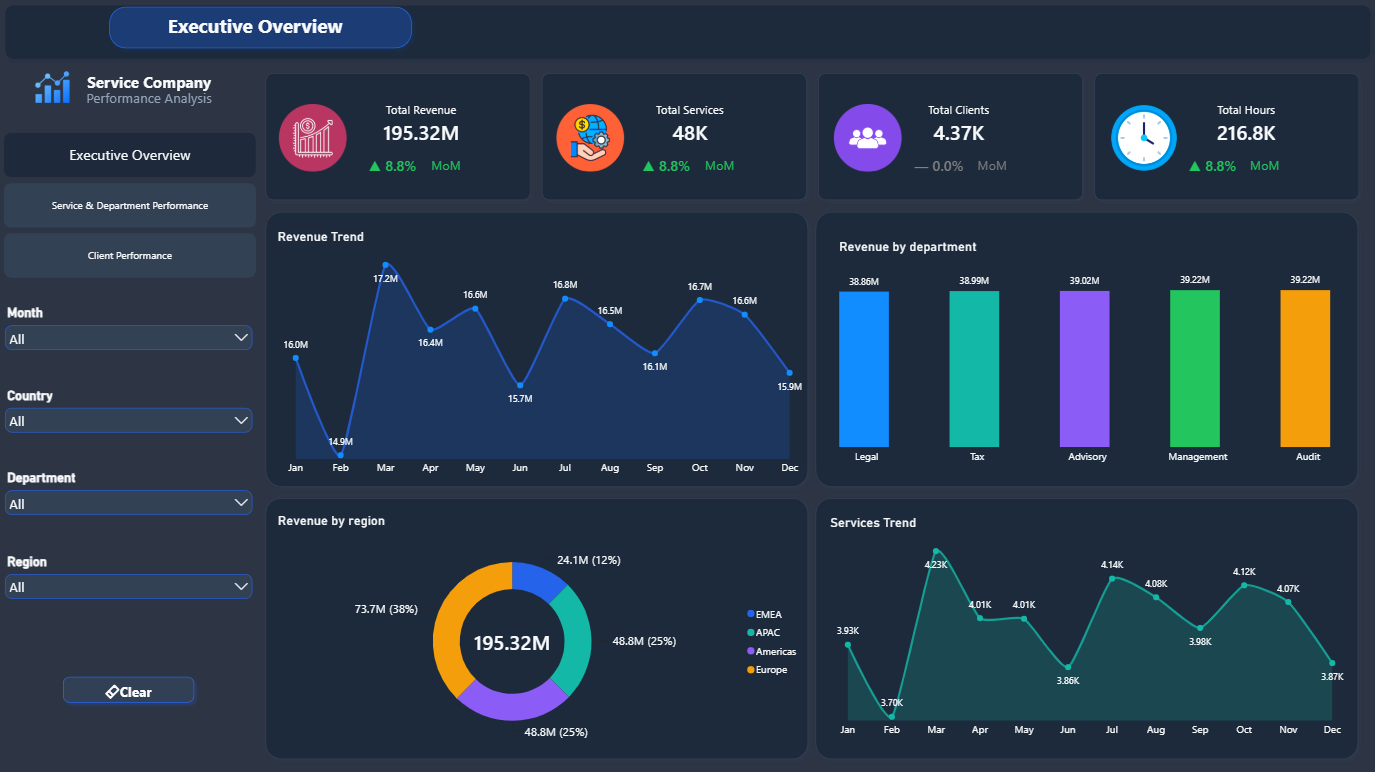

The page's visual inventory and layout, read from the dashboard file:
{"tool":"powerbi","page":{"name":"Executive Overview","canvas":[1920,1080],"ordinal":0},"visuals":[{"type":"shape","box":[361.9,94.1,387.3,195.4],"z":0},{"type":"shape","box":[747.4,94.1,387.3,195.4],"z":1000},{"type":"shape","box":[1131.6,94.1,387.3,195.4],"z":2000},{"type":"shape","box":[1516.5,94.1,387.3,195.4],"z":3000},{"type":"shape","box":[0,0,1920.1,92.3],"z":4000},{"type":"shape","box":[144.8,1.8,439.7,76],"z":5000},{"type":"actionButton","title":"Executive Overview","box":[144.8,12.7,425.3,45.2],"z":6000},{"type":"cardVisual","fields":{"Data":["_Measure.Total Revenue"]},"box":[445.2,110.4,285.9,130.3],"z":7000},{"type":"cardVisual","fields":{"Data":["_Measure.Total Services"]},"box":[819.8,110.4,285.9,130.3],"z":8000},{"type":"cardVisual","fields":{"Data":["_Measure.Total Clients"]},"box":[1194.4,110.4,285.9,130.3],"z":9000},{"type":"cardVisual","fields":{"Data":["_Measure.Total Hours"]},"box":[1596.1,110.4,285.9,130.3],"z":10000},{"type":"shape","title":"Revenue Trend","box":[361.9,287.2,774.5,401.7],"z":11000},{"type":"areaChart","title":"Revenue Trend","fields":{"Category":["Calender.MonthName"],"Y":["_Measure.Total Revenue"]},"box":[389.1,320.3,738.3,347.5],"z":12000},{"type":"shape","title":"Revenue Trend","box":[1129.5,685.9,774.3,381.9],"z":13000},{"type":"areaChart","title":"Services Trend","fields":{"Category":["Calender.MonthName"],"Y":["_Measure.Total Services"]},"box":[1158.3,720,724.2,313],"z":14000},{"type":"shape","title":"Revenue Trend","box":[1129.2,286.8,774.5,401.7],"z":15000},{"type":"columnChart","title":"Revenue by department","fields":{"Category":["V_Service_Company_Analysis.department"],"Y":["_Measure.Total Revenue"]},"box":[1154.6,320.3,723.9,347.5],"z":16000},{"type":"shape","title":"Revenue Trend","box":[361.9,686.6,774.3,381.9],"z":17000},{"type":"donutChart","title":"Revenue by region","fields":{"Category":["V_Service_Company_Analysis.region"],"Y":["_Measure.Total Revenue"]},"box":[372.8,702.1,763.7,351.1],"z":18000},{"type":"slicer","title":"Month","fields":{"Values":["Calender.MonthName"]},"box":[3.6,427.1,354.7,79.6],"z":19000},{"type":"slicer","title":"Month","fields":{"Values":["V_Service_Company_Analysis.country"]},"box":[3.6,542.3,354.7,79.6],"z":20000},{"type":"slicer","title":"Month","fields":{"Values":["V_Service_Company_Analysis.department"]},"box":[3.6,657.5,354.7,79.6],"z":21000},{"type":"slicer","title":"Month","fields":{"Values":["V_Service_Company_Analysis.region"]},"box":[3.6,772.7,354.7,79.6],"z":22000},{"type":"actionButton","box":[79.6,935.6,200.9,54.3],"z":23000},{"type":"pageNavigator","box":[7.2,186.4,351.1,204.5],"z":24000},{"type":"cardVisual","title":"MOM","fields":{"Data":["_Measure.Revenue MOM Indicator"]},"box":[491.9,197,115.8,70.6],"z":25000},{"type":"actionButton","box":[573.3,213.3,100,40],"z":26000},{"type":"cardVisual","title":"MOM","fields":{"Data":["_Measure.Service MOM Indicator"]},"box":[872.4,197,115.8,70.6],"z":27000},{"type":"actionButton","box":[953.8,213.3,100,40],"z":28000},{"type":"cardVisual","title":"MOM","fields":{"Data":["_Measure.Clients MOM Indicator"]},"box":[1253,197,115.8,70.6],"z":29000},{"type":"actionButton","box":[1334.4,213.3,100,40],"z":30000},{"type":"cardVisual","title":"MOM","fields":{"Data":["_Measure.Hours MOM Indicator"]},"box":[1633.5,197,115.8,70.6],"z":31000},{"type":"actionButton","box":[1714.9,213.3,100,40],"z":32000},{"type":"image","box":[775.1,146.6,97.7,94.1],"z":33000},{"type":"image","box":[389.1,146.6,97.7,94.1],"z":34000},{"type":"image","box":[1161.2,146.6,97.7,94.1],"z":35000},{"type":"image","box":[1547.3,146.6,97.7,94.1],"z":36000},{"type":"actionButton","box":[61.5,92.3,296.8,47.1],"z":37000},{"type":"actionButton","box":[61.5,112.2,296.8,54.3],"z":38000},{"type":"image","box":[45.2,97.7,57.9,50.7],"z":39000}]}

Visuals, with their boxes in screenshot pixels (x1, y1, x2, y2), scaled from the page's 1920x1080 canvas onto the 1375x772 screenshot:
shape: bbox(259, 67, 537, 207)
shape: bbox(535, 67, 813, 207)
shape: bbox(810, 67, 1088, 207)
shape: bbox(1086, 67, 1363, 207)
shape: bbox(0, 0, 1374, 66)
shape: bbox(104, 1, 419, 56)
"Executive Overview" actionButton: bbox(104, 9, 408, 41)
cardVisual - _Measure.Total Revenue: bbox(319, 79, 524, 172)
cardVisual - _Measure.Total Services: bbox(587, 79, 792, 172)
cardVisual - _Measure.Total Clients: bbox(855, 79, 1060, 172)
cardVisual - _Measure.Total Hours: bbox(1143, 79, 1348, 172)
"Revenue Trend" shape: bbox(259, 205, 814, 492)
"Revenue Trend" areaChart: bbox(279, 229, 807, 477)
"Revenue Trend" shape: bbox(809, 490, 1363, 763)
"Services Trend" areaChart: bbox(830, 515, 1348, 738)
"Revenue Trend" shape: bbox(809, 205, 1363, 492)
"Revenue by department" columnChart: bbox(827, 229, 1345, 477)
"Revenue Trend" shape: bbox(259, 491, 814, 764)
"Revenue by region" donutChart: bbox(267, 502, 814, 753)
"Month" slicer: bbox(3, 305, 257, 362)
"Month" slicer: bbox(3, 388, 257, 445)
"Month" slicer: bbox(3, 470, 257, 527)
"Month" slicer: bbox(3, 552, 257, 609)
actionButton: bbox(57, 669, 201, 708)
pageNavigator: bbox(5, 133, 257, 279)
"MOM" cardVisual: bbox(352, 141, 435, 191)
actionButton: bbox(411, 152, 482, 181)
"MOM" cardVisual: bbox(625, 141, 708, 191)
actionButton: bbox(683, 152, 755, 181)
"MOM" cardVisual: bbox(897, 141, 980, 191)
actionButton: bbox(956, 152, 1027, 181)
"MOM" cardVisual: bbox(1170, 141, 1253, 191)
actionButton: bbox(1228, 152, 1300, 181)
image: bbox(555, 105, 625, 172)
image: bbox(279, 105, 349, 172)
image: bbox(832, 105, 902, 172)
image: bbox(1108, 105, 1178, 172)
actionButton: bbox(44, 66, 257, 100)
actionButton: bbox(44, 80, 257, 119)
image: bbox(32, 70, 74, 106)
